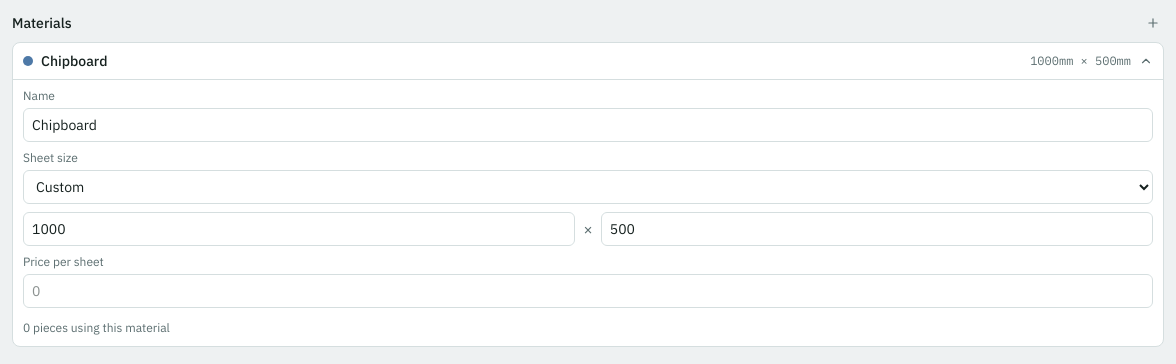
Test: MaterialManager › reflects the expanded state via aria-expanded, toggling on click
Click the button "Chipboard 1000mm × 500mm".
click(74, 61)  # box [13,43,1163,79]
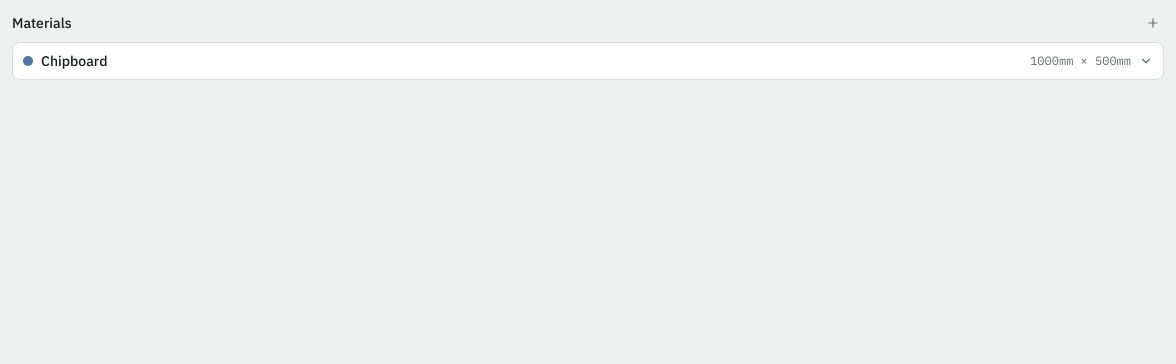
Result: the button "Chipboard 1000mm × 500mm" is collapsed at [13,43,1163,79]
